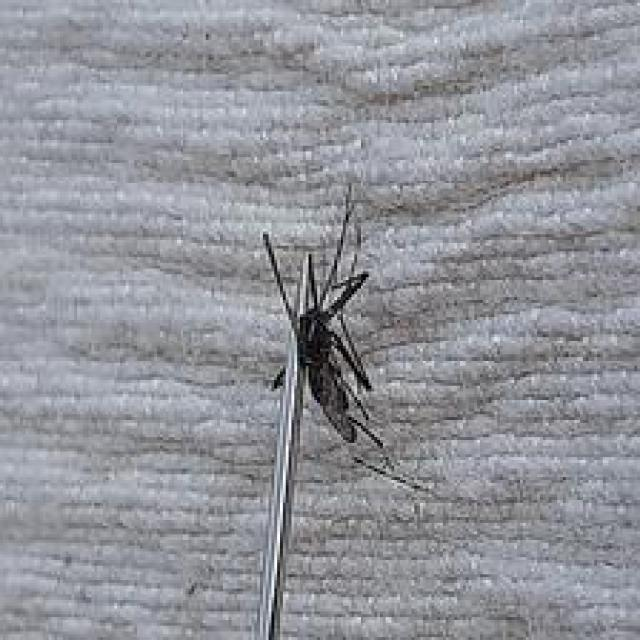Aedes albopictus: (241, 183, 436, 640)
